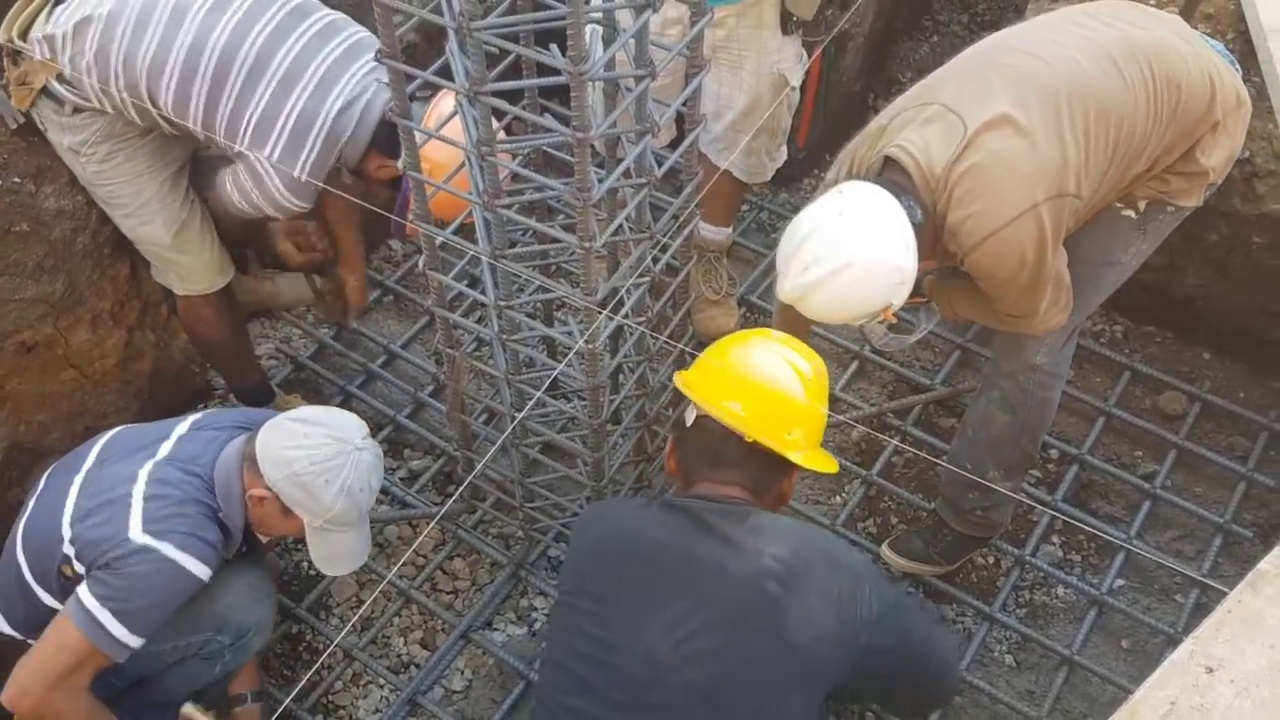helmet: (680, 329, 838, 479), (775, 178, 921, 332), (400, 87, 513, 226)
helmet-off: (232, 410, 378, 571)
helmet-on: (356, 58, 519, 257), (658, 332, 840, 509), (778, 147, 949, 326)
person: (778, 0, 1254, 574), (3, 0, 509, 413), (515, 333, 957, 720), (0, 391, 390, 720), (551, 4, 805, 325)
